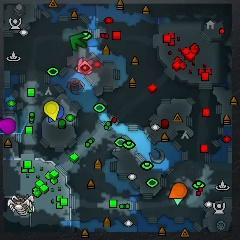Other: (78, 61, 93, 76)
p1: (47, 104, 65, 123)
p2: (173, 198, 182, 206)
p3: (0, 117, 17, 135)
p4: (44, 100, 58, 121)
p5: (168, 183, 187, 200)
x1: (77, 58, 93, 75)
x4: (70, 33, 86, 51)
